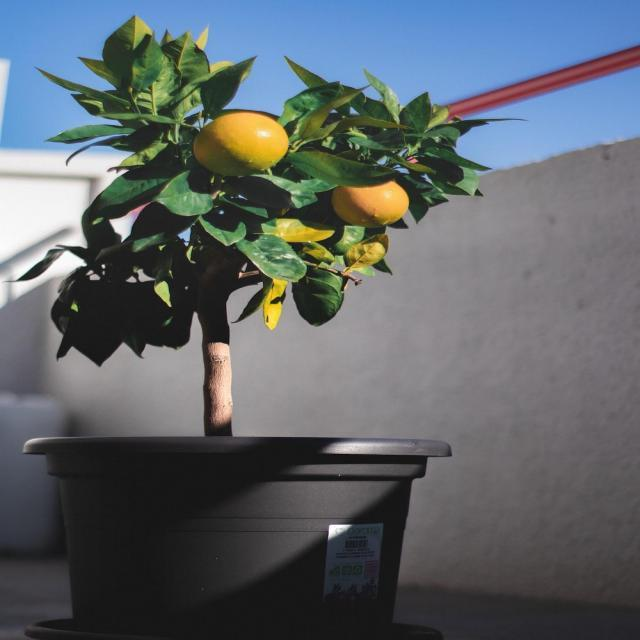Jeruk Sudah Matang: (193, 112, 290, 177), (332, 173, 412, 229)
